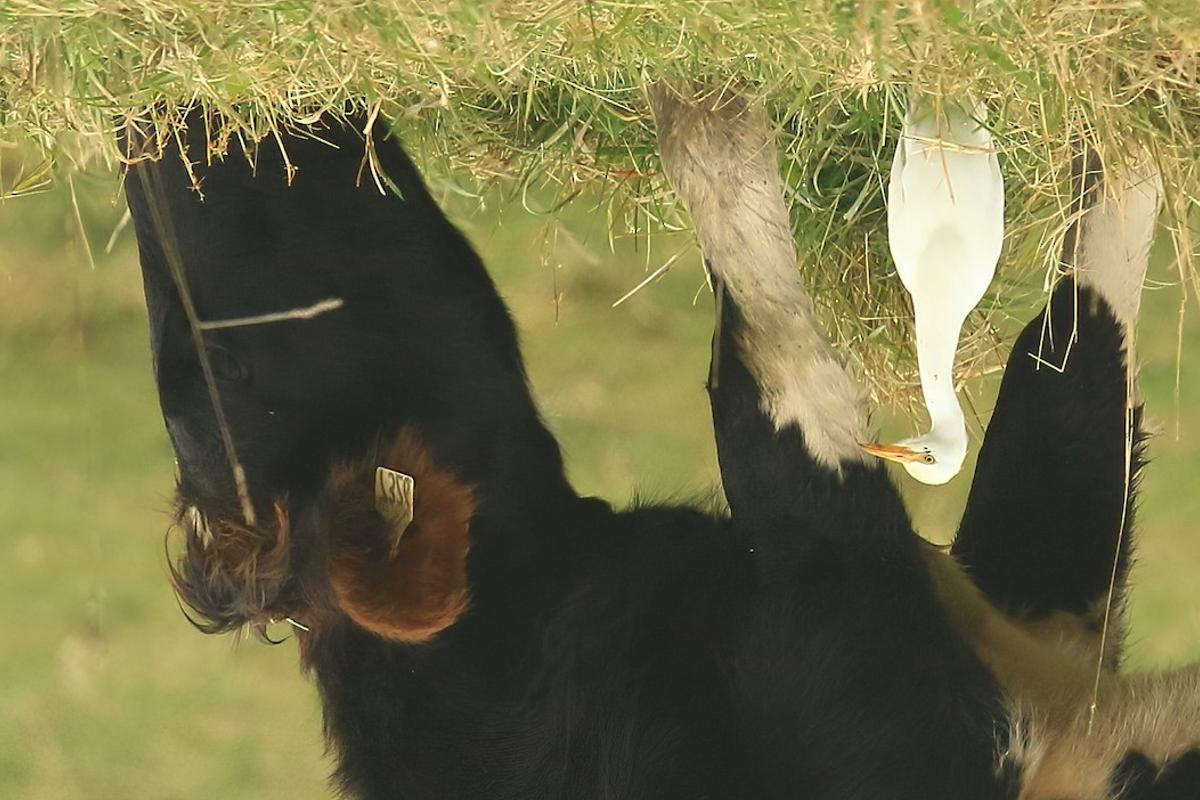egret: (859, 86, 1030, 489)
